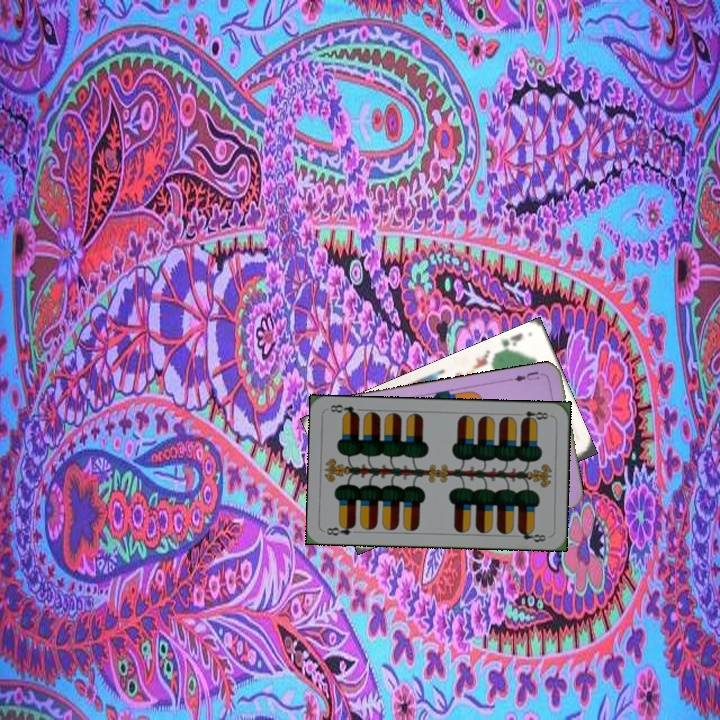E8: (513, 407, 554, 424), (323, 520, 358, 538)
EU: (507, 367, 547, 384)
GK: (493, 329, 526, 356)
